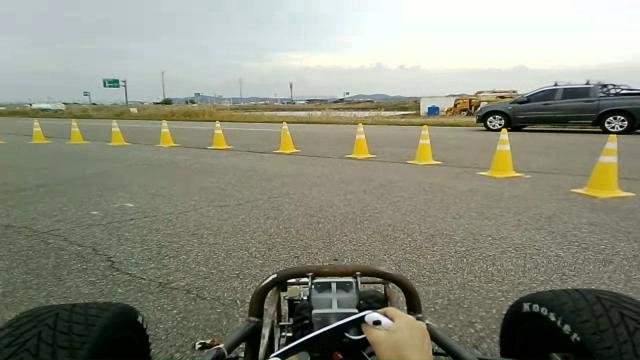yellow cone: (570, 134, 636, 198), (476, 127, 524, 178), (405, 124, 443, 166), (344, 122, 376, 159), (272, 121, 301, 154), (205, 120, 233, 149), (154, 119, 180, 147), (64, 118, 90, 144), (27, 118, 52, 144), (106, 119, 130, 146), (0, 123, 6, 144)
